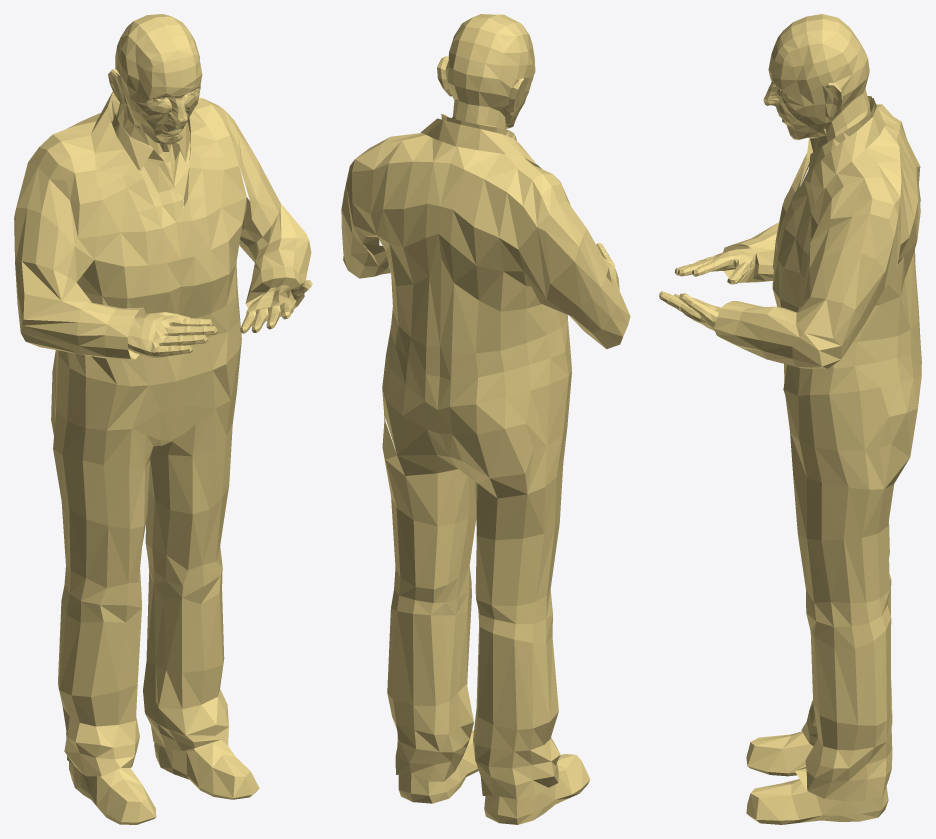
The model's file is worker_candidate_1.glb.
3 renders of one model, left to right at view 1: azimuth 30°, elevation 25°; view 2: azimuth 150°, elevation 25°; view 3: azimuth 270°, elevation 25°, orthographic.
Parts seen in each view (by area): view 1: world; view 2: world; view 3: world.
Boxes of the visible parts, x1,y1,x2,y2 form: world: [14, 14, 312, 824]; world: [341, 14, 630, 824]; world: [659, 14, 921, 824].
Bounding box in the file's own units: 0.6846 × 1.78 × 0.5517.
